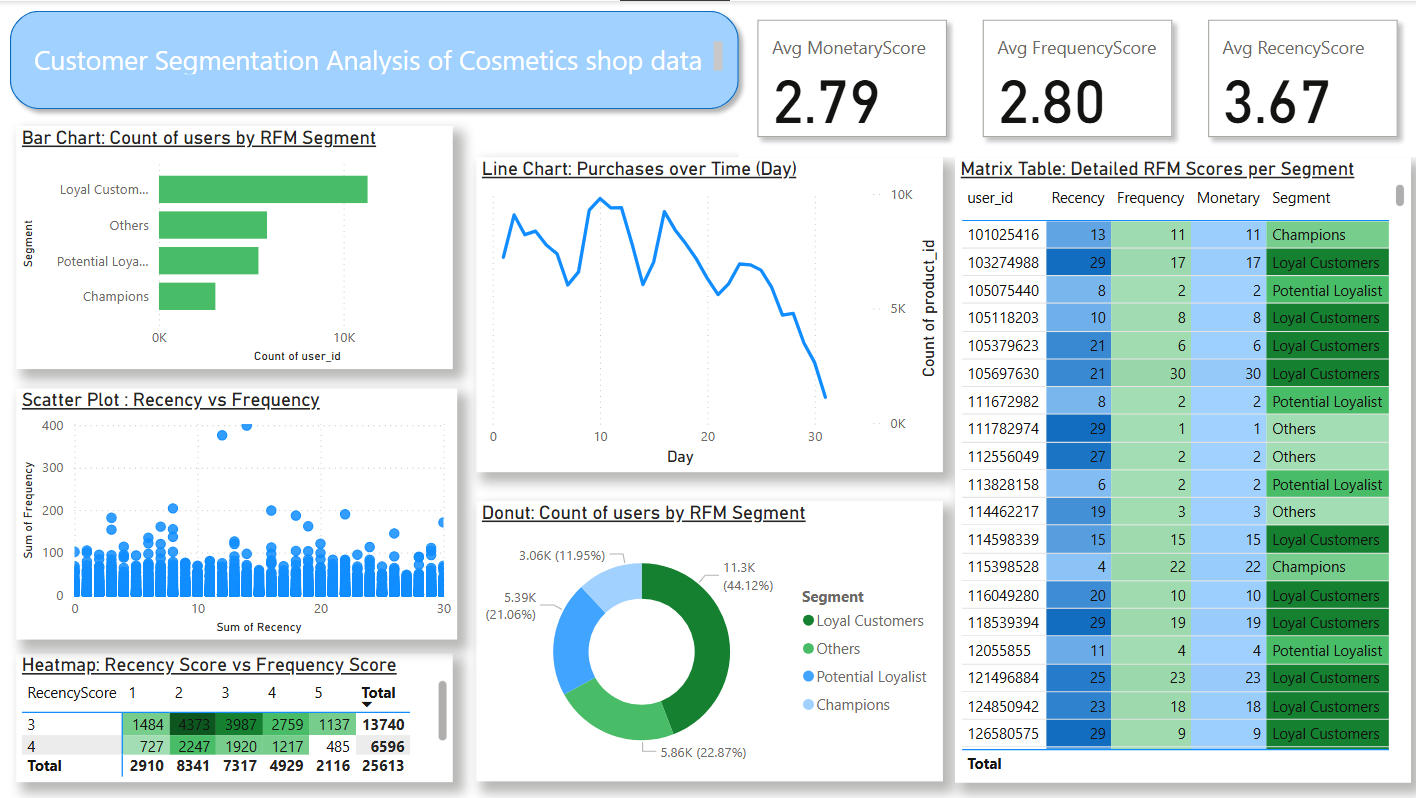

This screenshot's page, from the dashboard's own definition file:
{"tool":"powerbi","page":{"name":"Bar Chart","canvas":[1280,720],"ordinal":0},"visuals":[{"type":"clusteredBarChart","title":"Bar Chart: Count of users by RFM Segment","fields":{"Category":["RFM.Segment"],"Y":["CountNonNull(RFM.user_id)"]},"box":[14.7,112.5,393.8,218.9],"z":0},{"type":"donutChart","title":"Donut: Count of users by RFM Segment","fields":{"Category":["RFM.Segment"],"Y":["CountNonNull(RFM.user_id)"]},"box":[429.2,451.2,420.7,253.1],"z":1000},{"type":"pivotTable","title":"Heatmap: Recency Score vs Frequency Score","fields":{"Rows":["RFM.RecencyScore"],"Columns":["RFM.FrequencyScore"],"Values":["CountNonNull(RFM.user_id)"]},"box":[14.7,588.2,393.8,116.2],"z":2000},{"type":"lineChart","title":"Line Chart: Purchases over Time (Day)","fields":{"Y2":["CountNonNull(Purchases.product_id)"],"Category":["Purchases.event_time.Variation.Date Hierarchy.Day"]},"box":[429.2,140.6,420.7,283.7],"z":3000},{"type":"tableEx","title":"Matrix Table: Detailed RFM Scores per Segment","fields":{"Values":["RFM.user_id","RFM.Recency","RFM.Frequency","RFM.Monetary","RFM.Segment"]},"box":[860.9,140.6,410.9,563.7],"z":4000},{"type":"scatterChart","title":"Scatter Plot : Recency vs Frequency","fields":{"Category":["RFM.user_id"],"X":["Sum(RFM.Recency)"],"Y":["Sum(RFM.Frequency)"]},"box":[14.7,349.7,397.4,226.2],"z":5000},{"type":"cardVisual","fields":{"Data":["Avg(RFM.MonetaryScore)","Avg(RFM.FrequencyScore)","Avg(RFM.RecencyScore)"]},"box":[666.4,0,613.9,140.6],"z":6000},{"type":"shape","box":[0,0,675,106.4],"z":7000},{"type":"textbox","box":[14.7,31.8,642,39.1],"z":8000}]}

Visuals, with their boxes in screenshot pixels (x1, y1, x2, y2), scaled from the page's 1280x720 canvas onto the 1416x798 screenshot:
"Bar Chart: Count of users by RFM Segment" clusteredBarChart: (16, 125, 452, 367)
"Donut: Count of users by RFM Segment" donutChart: (475, 500, 940, 781)
"Heatmap: Recency Score vs Frequency Score" pivotTable: (16, 652, 452, 781)
"Line Chart: Purchases over Time (Day)" lineChart: (475, 156, 940, 470)
"Matrix Table: Detailed RFM Scores per Segment" tableEx: (952, 156, 1407, 781)
"Scatter Plot : Recency vs Frequency" scatterChart: (16, 388, 456, 638)
cardVisual - Avg(RFM.MonetaryScore) x Avg(RFM.FrequencyScore): (737, 0, 1415, 156)
shape: (0, 0, 747, 118)
textbox: (16, 35, 726, 79)
